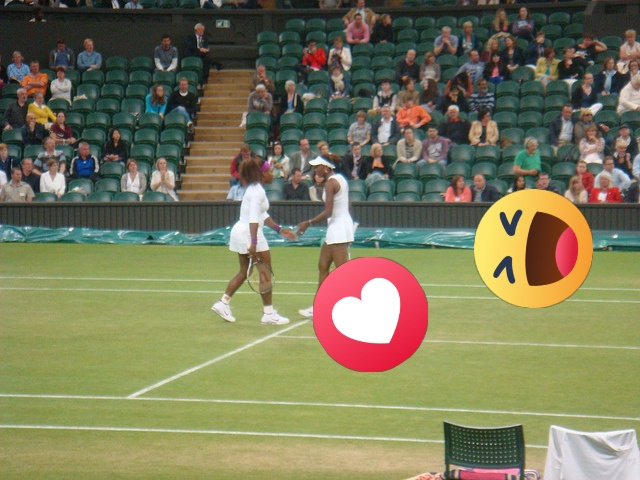haha: (474, 189, 593, 308)
love: (313, 257, 428, 372)
